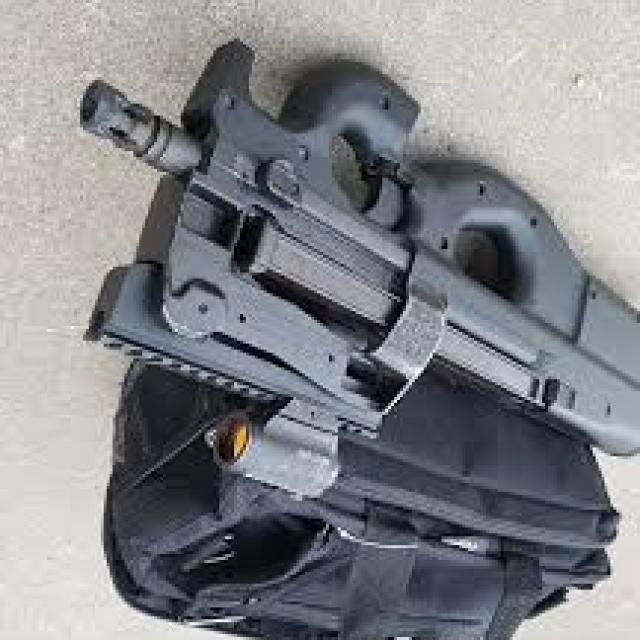Gun: (12, 82, 640, 542)
